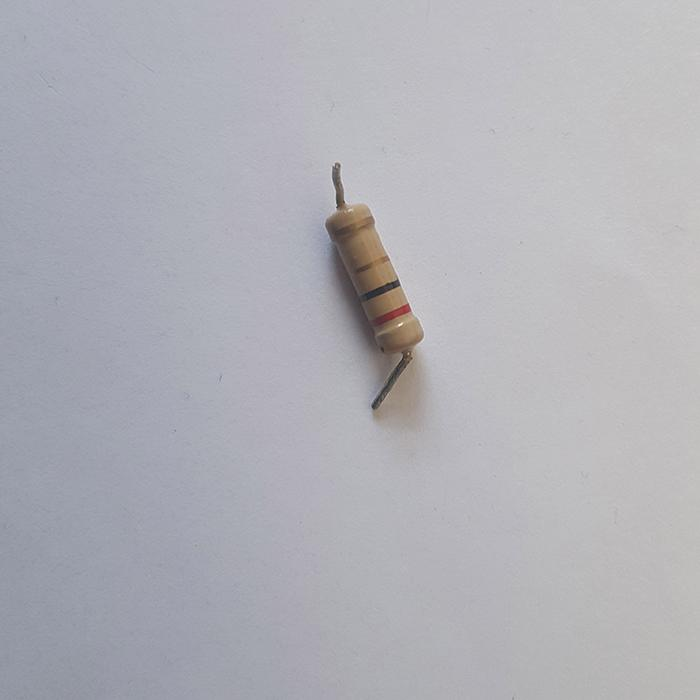resistor: (323, 164, 423, 357)
